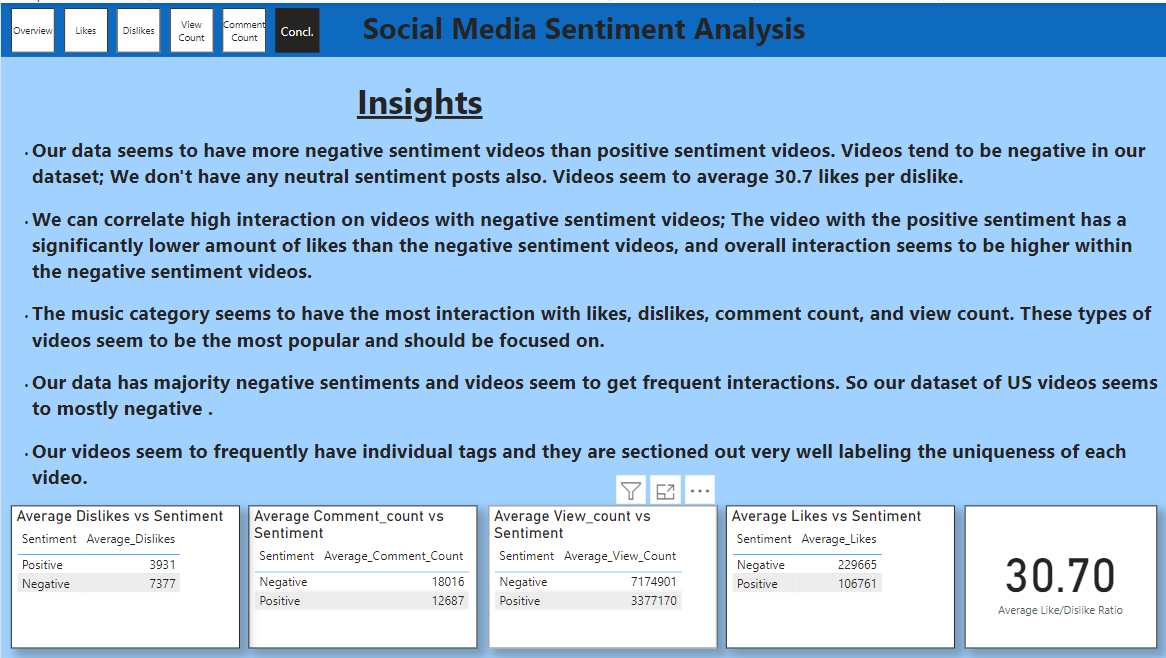

This screenshot's page, from the dashboard's own definition file:
{"tool":"powerbi","page":{"name":"Concl.","canvas":[1280,720],"ordinal":5},"visuals":[{"type":"shape","box":[0,0,1280.3,59],"z":0},{"type":"textbox","box":[0,0,1280.3,59],"z":1000},{"type":"pageNavigator","box":[11,5.5,341.7,49.4],"z":2000},{"type":"tableEx","title":"Average Comment_count vs Sentiment","fields":{"Values":["gold_df_avg_comment_count (2).Sentiment","Sum(gold_df_avg_comment_count (2).Average_Comment_Count)"]},"box":[272.2,551.6,250.9,156.8],"z":3000},{"type":"tableEx","title":"Average View_count vs Sentiment","fields":{"Values":["gold_df_avg_view_count (2).Sentiment","Sum(gold_df_avg_view_count (2).Average_View_Count)"]},"box":[534.5,551.6,250.9,156.8],"z":4000},{"type":"tableEx","title":"Average Likes vs Sentiment","fields":{"Values":["gold_df_avg_likes (2).Sentiment","Sum(gold_df_avg_likes (2).Average_Likes)"]},"box":[795.4,551.6,250.9,156.8],"z":5000},{"type":"tableEx","title":"Average Dislikes vs Sentiment","fields":{"Values":["gold_df_avg_dislikes (2).Sentiment","Sum(gold_df_avg_dislikes (2).Average_Dislikes)"]},"box":[11.4,551.6,250.9,156.8],"z":6000},{"type":"textbox","box":[11,76.8,897.4,64.5],"z":7000},{"type":"textbox","box":[11.4,141.1,1268.6,399.1],"z":8000},{"type":"card","fields":{"Values":["gold_df.Like/Dislike Ratio"]},"box":[1057.6,551.6,211,156.8],"z":9000}]}

Visuals, with their boxes on the page's 1280x720 design canvas (x1, y1, x2, y2). These are canvas units, not pixel positions in the 1166x658 screenshot, which may show the page scaled, cropped or inside an application window:
shape: x1=0, y1=0, x2=1280, y2=59
textbox: x1=0, y1=0, x2=1280, y2=59
pageNavigator: x1=11, y1=6, x2=353, y2=55
"Average Comment_count vs Sentiment" tableEx: x1=272, y1=552, x2=523, y2=708
"Average View_count vs Sentiment" tableEx: x1=534, y1=552, x2=785, y2=708
"Average Likes vs Sentiment" tableEx: x1=795, y1=552, x2=1046, y2=708
"Average Dislikes vs Sentiment" tableEx: x1=11, y1=552, x2=262, y2=708
textbox: x1=11, y1=77, x2=908, y2=141
textbox: x1=11, y1=141, x2=1280, y2=540
card - gold_df.Like/Dislike Ratio: x1=1058, y1=552, x2=1269, y2=708
